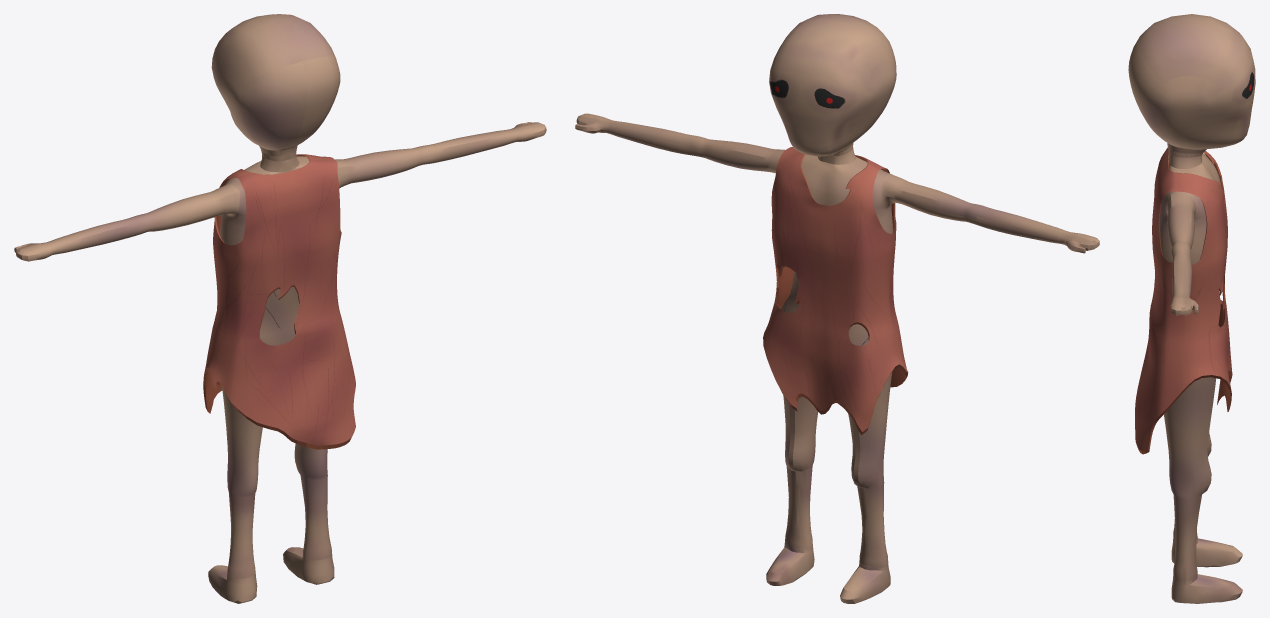
Rendered from enemy1.fbx.
The picture shows the model from 3 angles, left to right: view 1: azimuth 30°, elevation 25°; view 2: azimuth 150°, elevation 25°; view 3: azimuth 270°, elevation 25°; orthographic projection.
Parts seen in each view (by area): view 1: polySurface1, polySurface2; view 2: polySurface1, polySurface2; view 3: polySurface1, polySurface2.
Part boxes in pixels (x1,y1,x2,y2): polySurface1: (14, 14, 546, 603); polySurface2: (203, 154, 355, 449); polySurface1: (575, 14, 1099, 603); polySurface2: (763, 147, 908, 435); polySurface1: (1128, 14, 1255, 603); polySurface2: (1135, 147, 1232, 454).
Size of the model in its own units: 7.32 by 7.5 by 1.55.
1 material, 1 textured.
